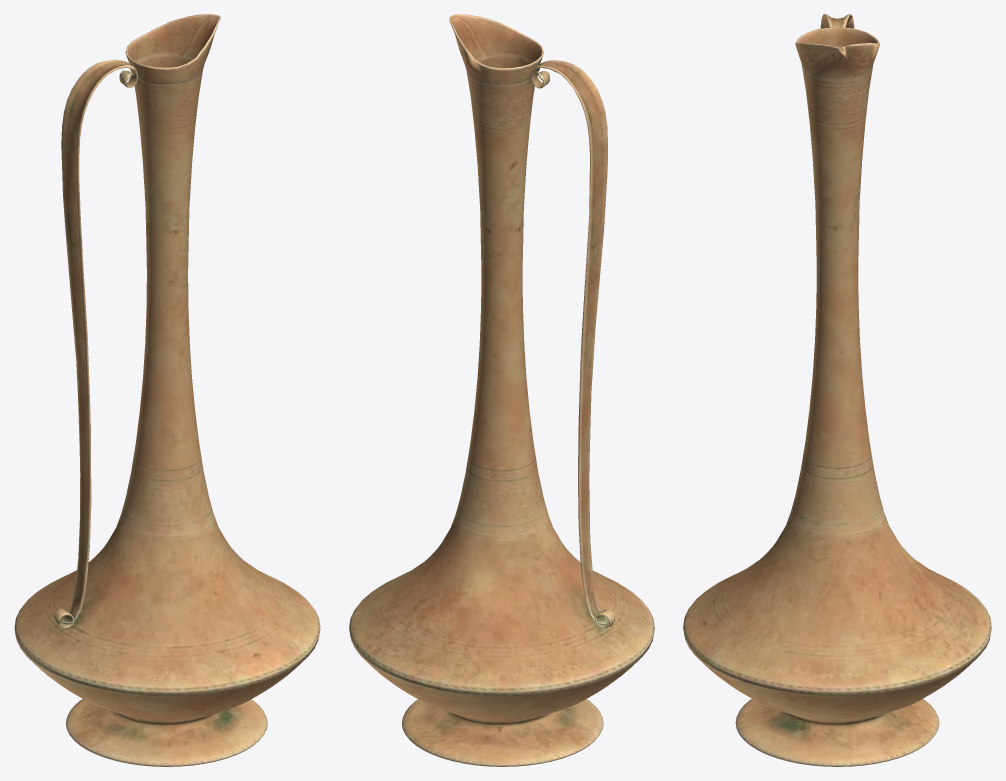
The model's file is brass_vase_02.glb.
The picture shows the model from 3 angles, left to right: view 1: azimuth 30°, elevation 25°; view 2: azimuth 150°, elevation 25°; view 3: azimuth 270°, elevation 25°; orthographic projection.
Parts seen in each view (by area): view 1: brass_vase_02; view 2: brass_vase_02; view 3: brass_vase_02.
Part boxes in pixels (bbox=[...]): brass_vase_02: bbox=[14, 14, 320, 766]; brass_vase_02: bbox=[349, 14, 654, 766]; brass_vase_02: bbox=[683, 14, 991, 766].
Size of the model in its own units: 0.2103 by 0.5286 by 0.2103.
Materials: 1 (1 with a texture image).
